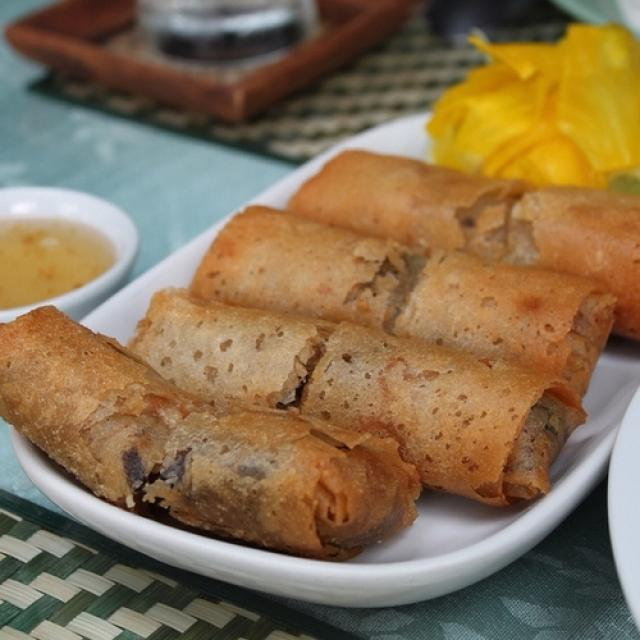炸货点心: (9, 21, 635, 592)
